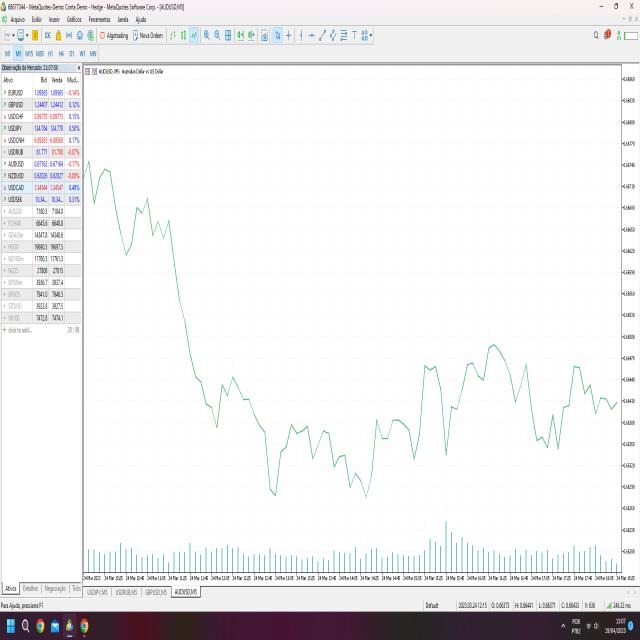fundo_duplo: (524, 354, 577, 470)
